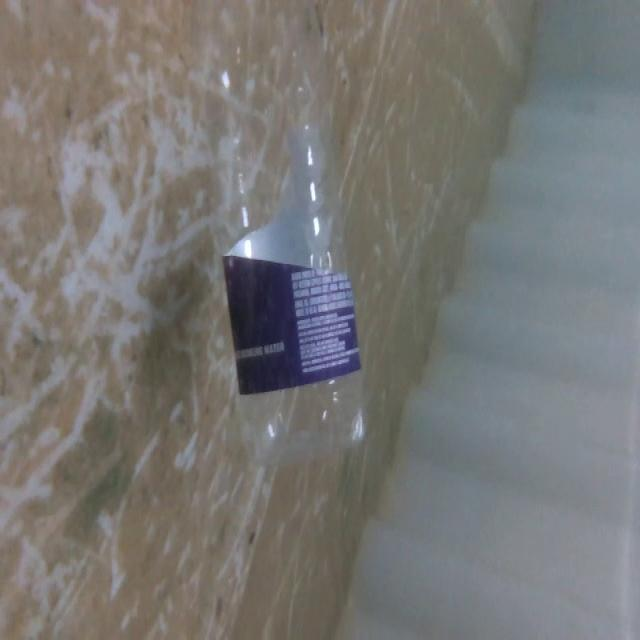plastic bottle: (169, 0, 372, 465)
